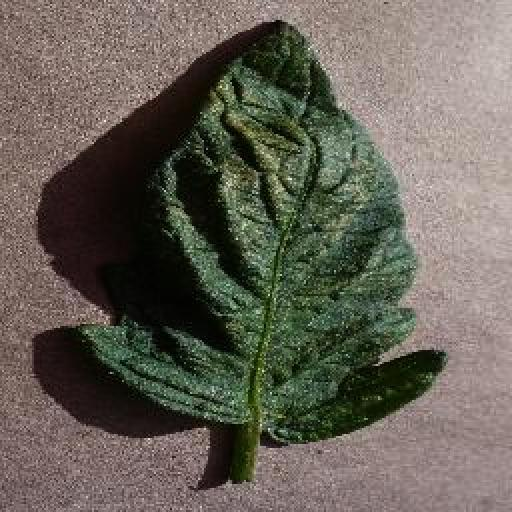disease_tomato: (72, 20, 444, 446)
